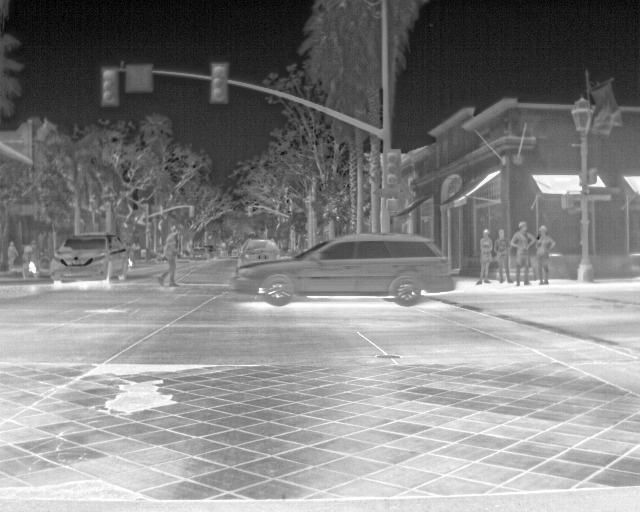bicycle: (236, 234, 458, 306), (48, 232, 133, 284), (236, 237, 280, 270)
empty: (513, 222, 539, 285), (158, 225, 180, 288), (473, 228, 495, 283), (495, 226, 514, 282), (534, 223, 551, 284), (4, 238, 20, 273)
